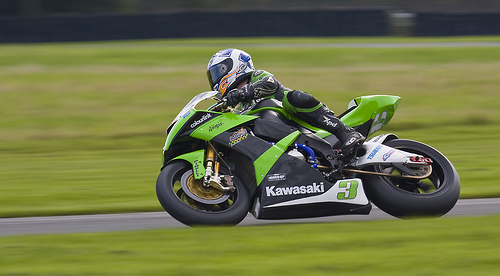helmet: (198, 48, 255, 86)
